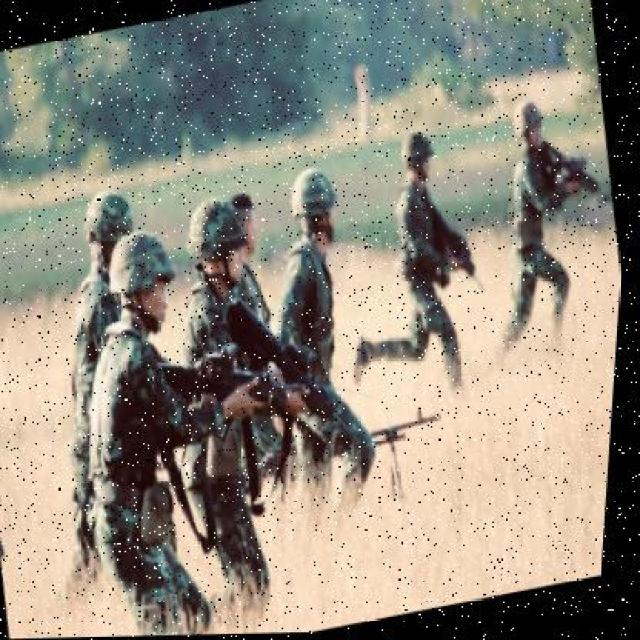MIL_Pax: (11, 181, 187, 570), (73, 232, 250, 612), (153, 204, 307, 588), (374, 134, 495, 389), (484, 115, 599, 360), (255, 154, 374, 360), (226, 186, 291, 369)
